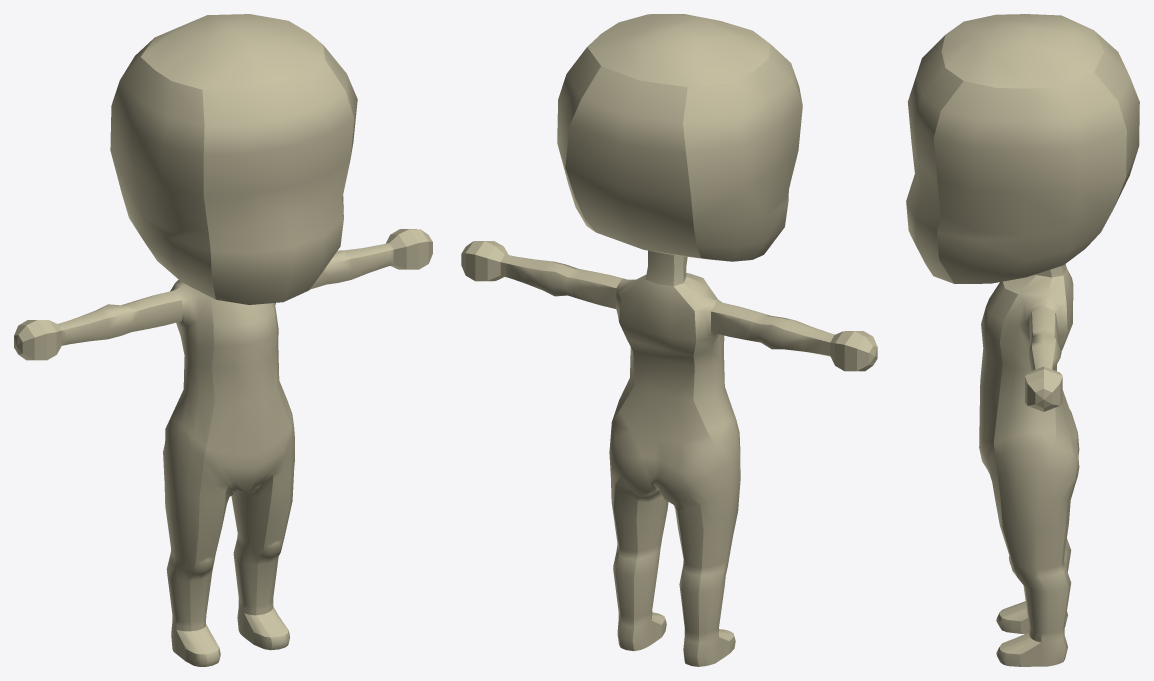
File: ChMD_Basemodel01.fbx
3 views of the same model, side by side, from view 1: azimuth 30°, elevation 25°; view 2: azimuth 150°, elevation 25°; view 3: azimuth 270°, elevation 25° (orthographic).
Visible parts, largest first — view 1: n_head, n_body, r_arm, l_arm, r_hand, l_hand; view 2: n_head, n_body, r_arm, l_arm, r_hand, l_hand; view 3: n_head, n_body, l_arm, l_hand.
Boxes of the visible parts, x1=… form: n_head: x1=110, y1=14, x2=357, y2=304; n_body: x1=163, y1=279, x2=294, y2=666; r_arm: x1=58, y1=290, x2=183, y2=345; l_arm: x1=310, y1=243, x2=393, y2=289; r_hand: x1=14, y1=320, x2=61, y2=360; l_hand: x1=386, y1=229, x2=432, y2=269; n_head: x1=557, y1=14, x2=802, y2=261; n_body: x1=609, y1=250, x2=740, y2=666; r_arm: x1=711, y1=301, x2=834, y2=356; l_arm: x1=500, y1=254, x2=625, y2=308; r_hand: x1=830, y1=331, x2=877, y2=371; l_hand: x1=461, y1=241, x2=508, y2=281; n_head: x1=906, y1=14, x2=1139, y2=283; n_body: x1=979, y1=264, x2=1079, y2=666; l_arm: x1=1029, y1=306, x2=1061, y2=370; l_hand: x1=1025, y1=366, x2=1062, y2=411.
Size of the model in its own units: 0.6002 by 0.8577 by 0.2951.
